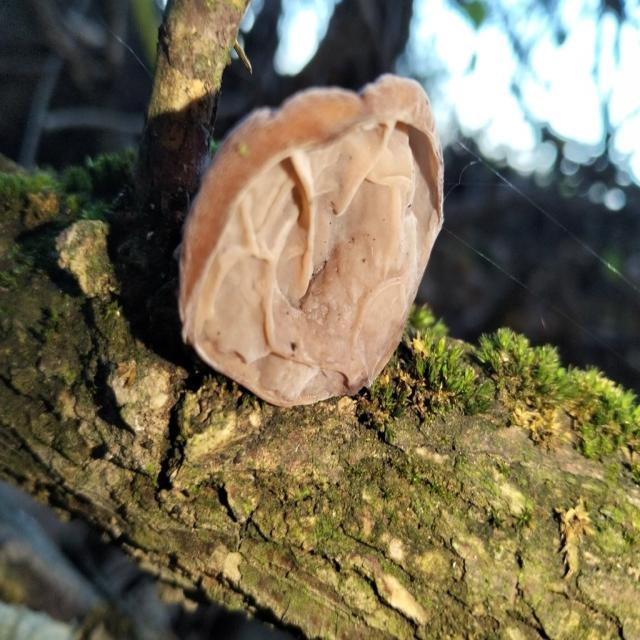Matang: (173, 66, 450, 417)
